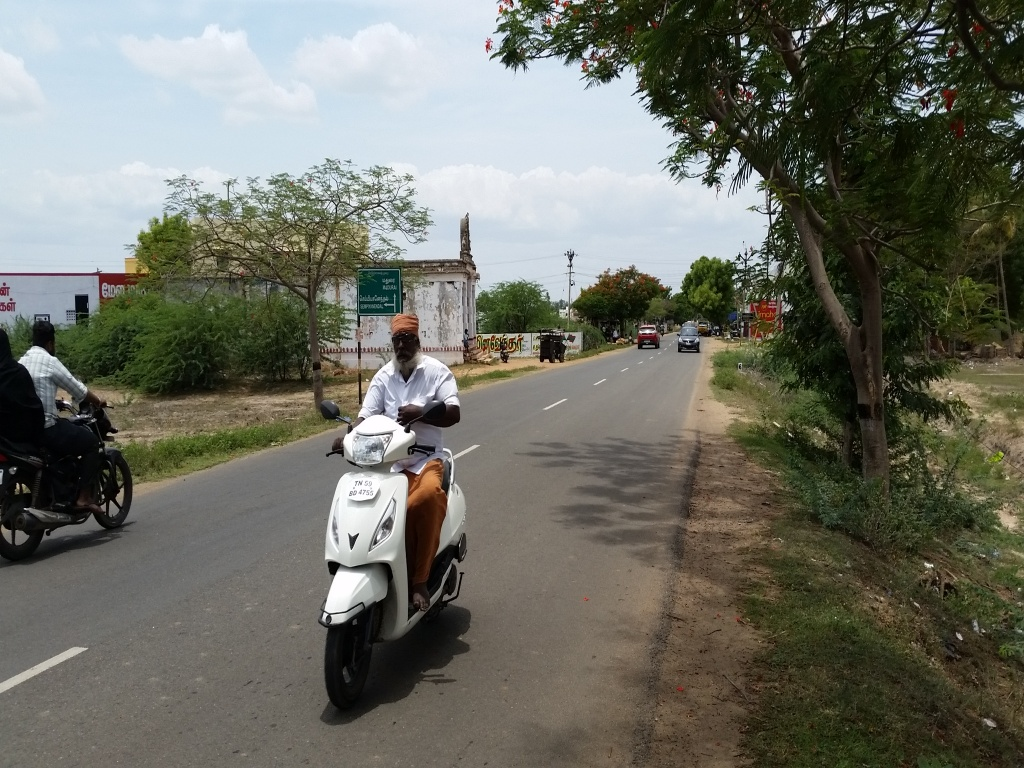biker: (300, 281, 500, 719), (1, 279, 151, 575)
nohelmet: (382, 296, 435, 375), (25, 308, 66, 367)
